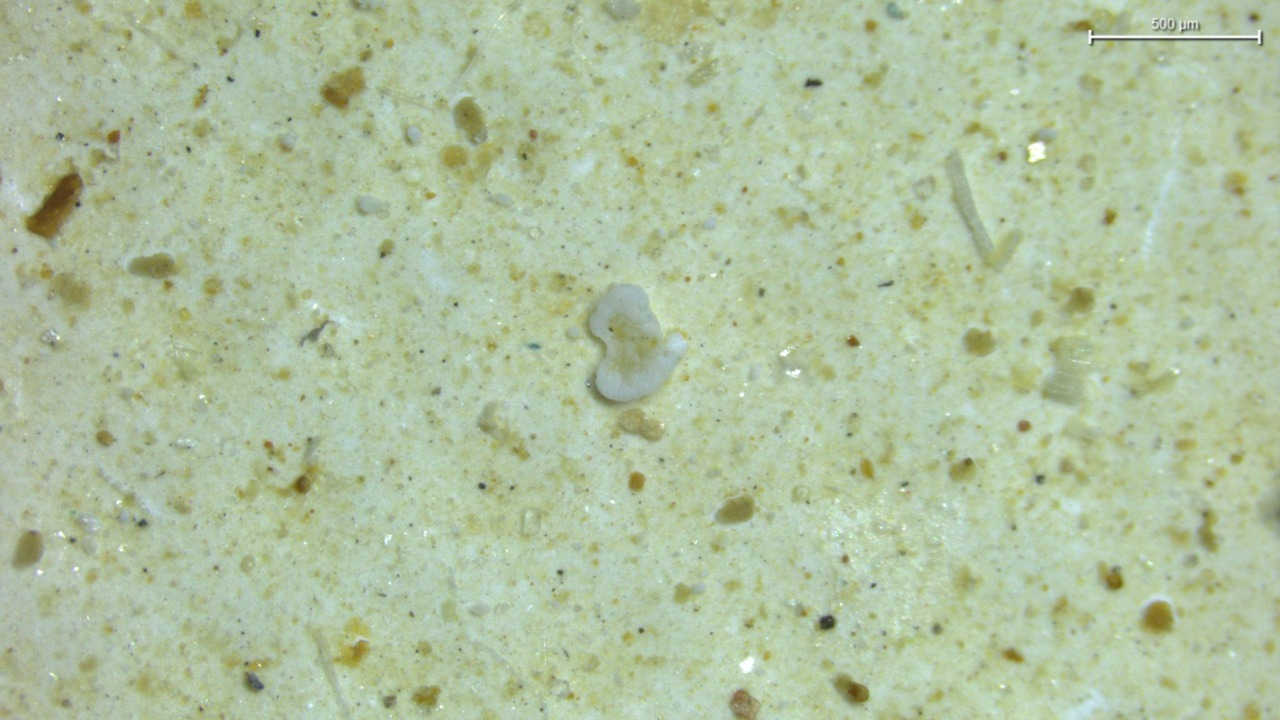microplastic_fragment: (589, 284, 686, 401)
